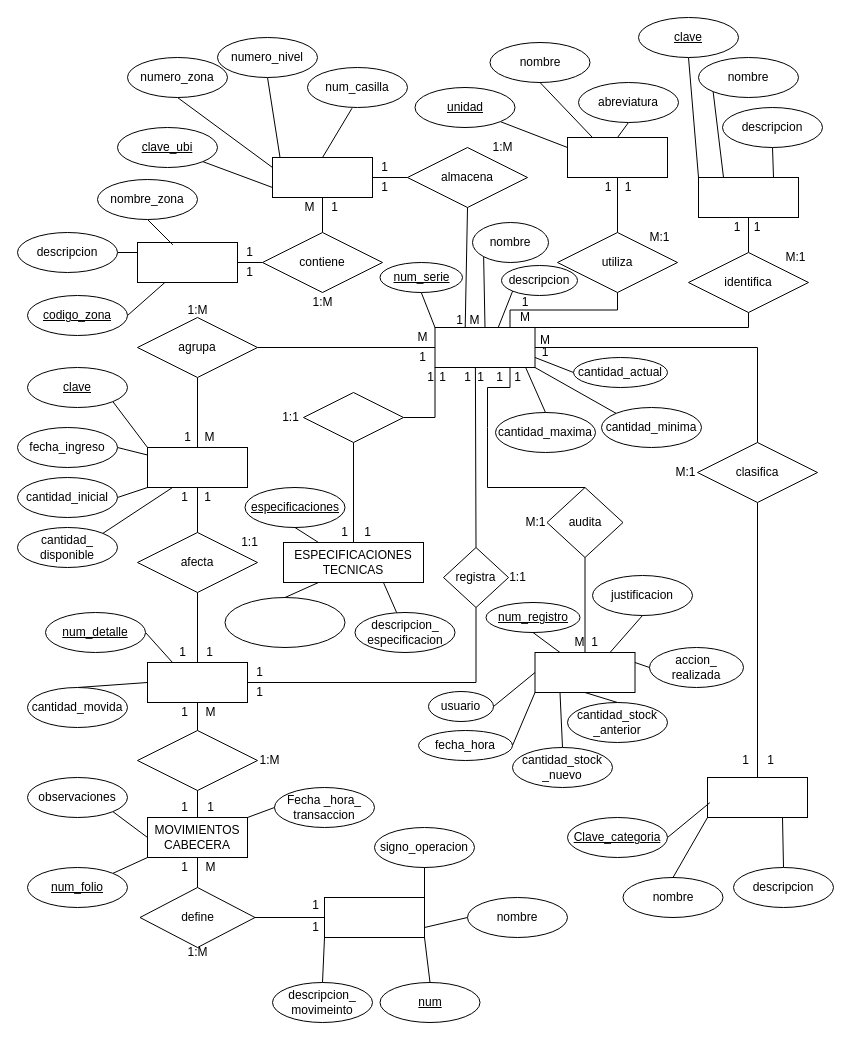
The diagram is 851 pixels wide and 1040 high, and some of its shapes have lost their labels. The shapes that lost their labels are listed below. From the top down, each one's centre as x and y in pixels, then its label:
[322,177]: UBICACIONES
[617,157]: UNIDADES MEDIDA
[748,197]: MARCA
[187,262]: ZONA ALMACEN
[484,347]: MATERIAL
[353,417]: describe
[197,467]: NUM LOTES
[284,622]: tipo_ especificacion
[197,682]: MOVIEMIENTOS DETALLES
[584,672]: BITACORA
[197,760]: desglosa
[757,797]: CATEGORIAS
[374,917]: TIPOS MOVIMIENTOS
